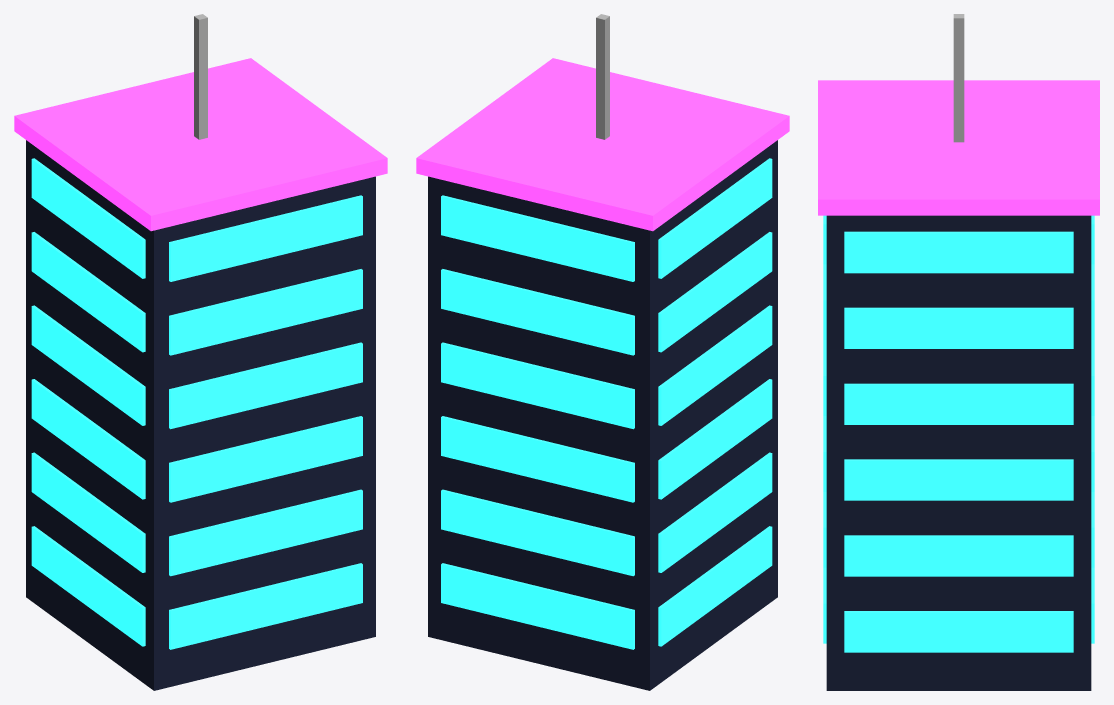
Rendered from tower.glb.
3 renders of one model, left to right at view 1: azimuth 30°, elevation 25°; view 2: azimuth 150°, elevation 25°; view 3: azimuth 270°, elevation 25°, orthographic. The views are drawn at different scales.
Visible parts, largest first — view 1: body, windows, trim, antenna; view 2: body, windows, trim, antenna; view 3: body, windows, trim, antenna.
Boxes of the visible parts, x1=… form: body: x1=26, y1=140, x2=375, y2=690; windows: x1=31, y1=158, x2=362, y2=649; trim: x1=14, y1=58, x2=387, y2=231; antenna: x1=194, y1=14, x2=207, y2=139; body: x1=428, y1=140, x2=777, y2=690; windows: x1=441, y1=158, x2=772, y2=649; trim: x1=416, y1=58, x2=789, y2=231; antenna: x1=596, y1=14, x2=609, y2=139; body: x1=826, y1=215, x2=1091, y2=690; windows: x1=823, y1=215, x2=1094, y2=652; trim: x1=818, y1=80, x2=1099, y2=215; antenna: x1=953, y1=14, x2=964, y2=142.
Size of the model in its own units: 6.4 by 15.5 by 6.4.
